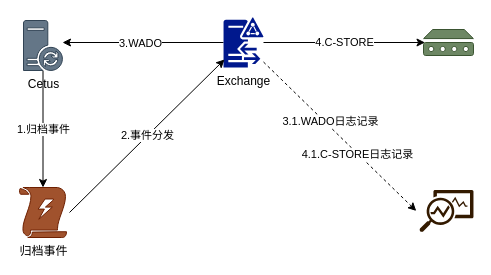
The diagram is 491 pixels wide and 275 high, and some of its shapes have lost their labels. The centre of each missing label's shape, as x and y in pixels:
AE: the point at 448,42
数据稽查: the point at 446,210
